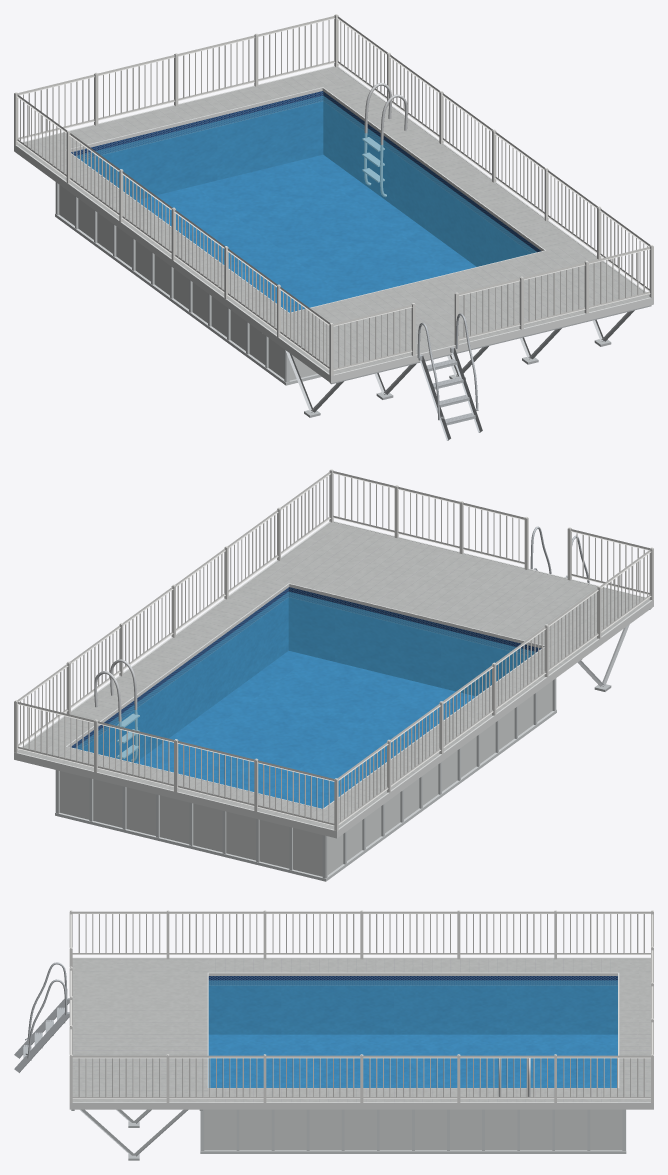
Rendered from kayak-pool-16x24.glb.
The picture shows the model from 3 angles, top to bottom: view 1: azimuth 30°, elevation 25°; view 2: azimuth 150°, elevation 25°; view 3: azimuth 270°, elevation 25°; orthographic projection. The views are drawn at different scales.
Parts seen in each view (by area): view 1: water, deck, fence, liner_floor, liner_wall, fascia, wall, upright, stud, ladder, steel; view 2: water, deck, fence, liner_floor, liner_wall, wall, fascia, upright, steel; view 3: water, deck, liner_wall, liner_floor, fence, wall, fascia, upright, ladder, stud.
Part boxes in pixels (x1,y1,x2,y2): water: (77,95,536,312); deck: (17,67,649,374); fence: (14,14,653,375); liner_floor: (137,155,475,312); liner_wall: (71,91,541,266); fascia: (14,66,653,383); wall: (59,185,317,380); upright: (55,182,321,385); stud: (260,305,651,417); ladder: (417,313,482,440); steel: (362,82,407,196); water: (75,592,536,808); deck: (18,522,650,829); fence: (14,469,653,830); liner_floor: (136,651,474,808); liner_wall: (71,587,541,762); wall: (60,681,552,876); fascia: (14,521,653,838); upright: (55,678,556,881); steel: (94,659,139,761); water: (208,980,617,1087); deck: (72,958,650,1102); liner_wall: (208,976,617,1034); liner_floor: (208,1034,617,1087); fence: (69,910,653,1102); wall: (204,1109,622,1150); fascia: (69,957,653,1109); upright: (200,1109,626,1153); ladder: (14,962,69,1072); stud: (71,1109,202,1160).
Bounding box in the file's own units: 6.1 × 2.15 × 11.35.
Materials: 11 (3 with a texture image).
